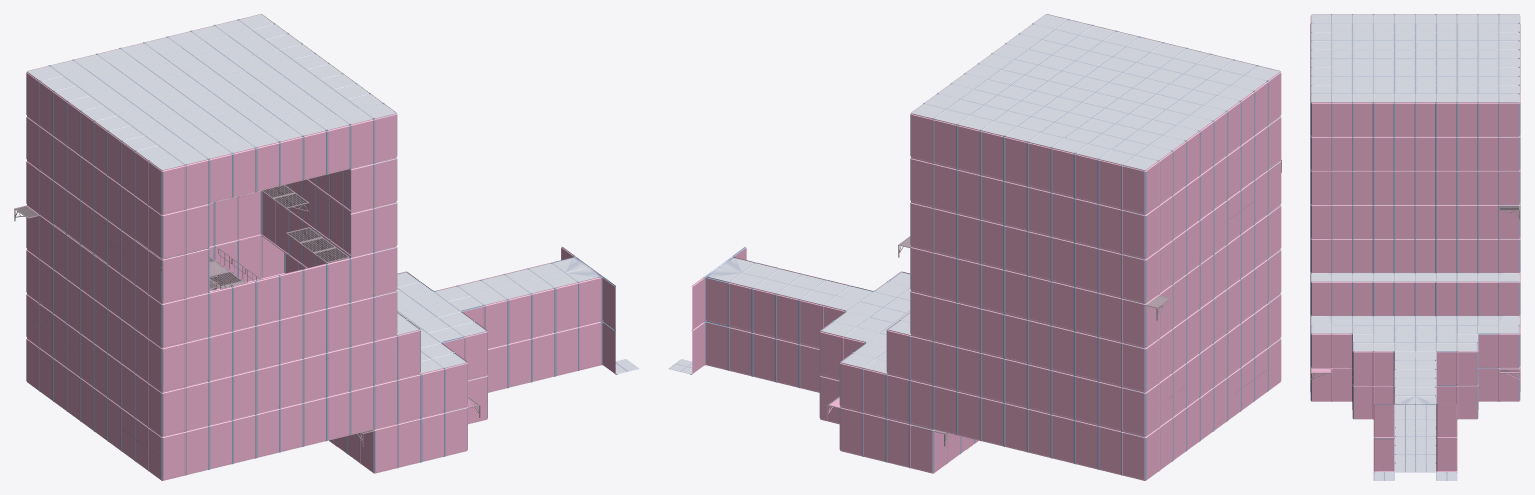
Rendered from Room_3 (1).fbx.
The picture shows the model from 3 angles, left to right: view 1: azimuth 30°, elevation 25°; view 2: azimuth 150°, elevation 25°; view 3: azimuth 270°, elevation 25°; orthographic projection. The views are drawn at different scales.
Parts seen in each view (by area): view 1: polySurface1738; view 2: polySurface1738; view 3: polySurface1738.
Part boxes in pixels (x1,y1,x2,y2): polySurface1738: (14, 14, 639, 480); polySurface1738: (668, 14, 1281, 480); polySurface1738: (1310, 14, 1520, 480).
Bounding box in the file's own units: 4500 × 2883 × 2010.
13 materials, 12 textured.
